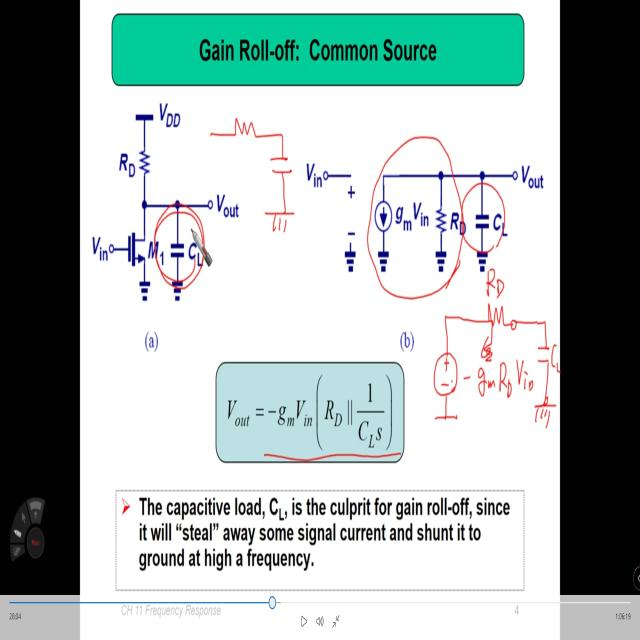panseo: (423, 260, 561, 469), (204, 102, 306, 252)
